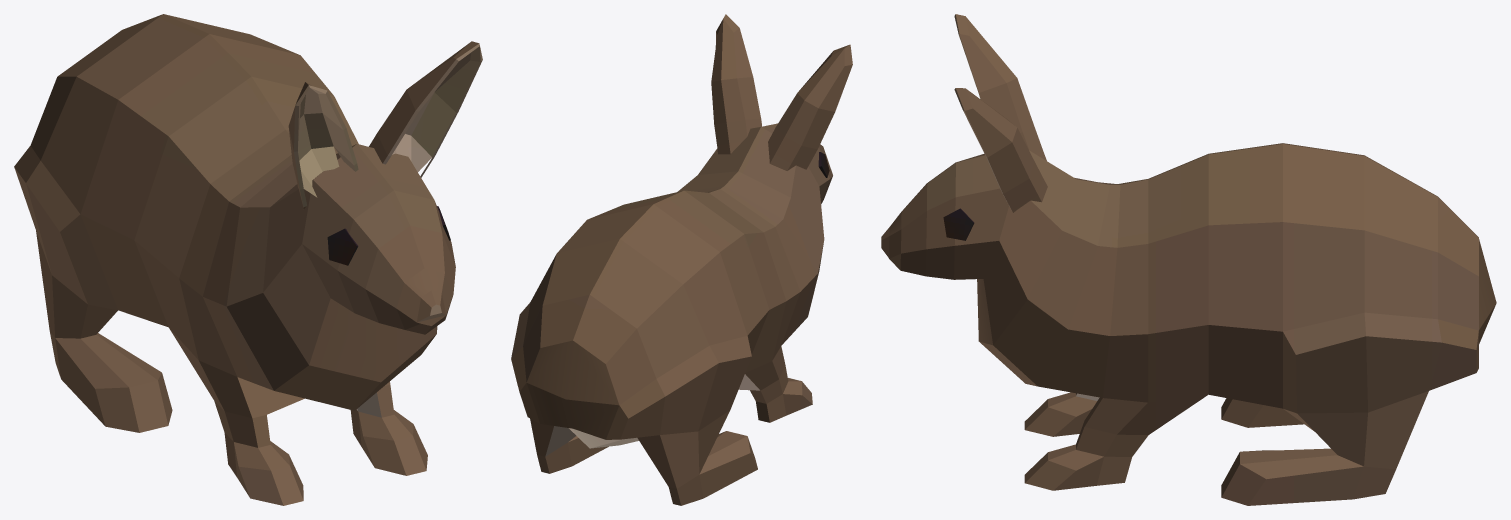
The model's file is animals-rabbit-162.glb.
3 views of the same model, side by side, from view 1: azimuth 30°, elevation 25°; view 2: azimuth 150°, elevation 25°; view 3: azimuth 270°, elevation 25° (orthographic). The views are drawn at different scales.
Visible parts, largest first — view 1: Geo_Rabbit; view 2: Geo_Rabbit; view 3: Geo_Rabbit.
Part boxes in pixels (x1=…): Geo_Rabbit: x1=14, y1=14, x2=482, y2=505; Geo_Rabbit: x1=511, y1=14, x2=852, y2=505; Geo_Rabbit: x1=881, y1=14, x2=1496, y2=505.
Size of the model in its own units: 41.05 by 62.44 by 86.73.
1 material, 1 textured.
